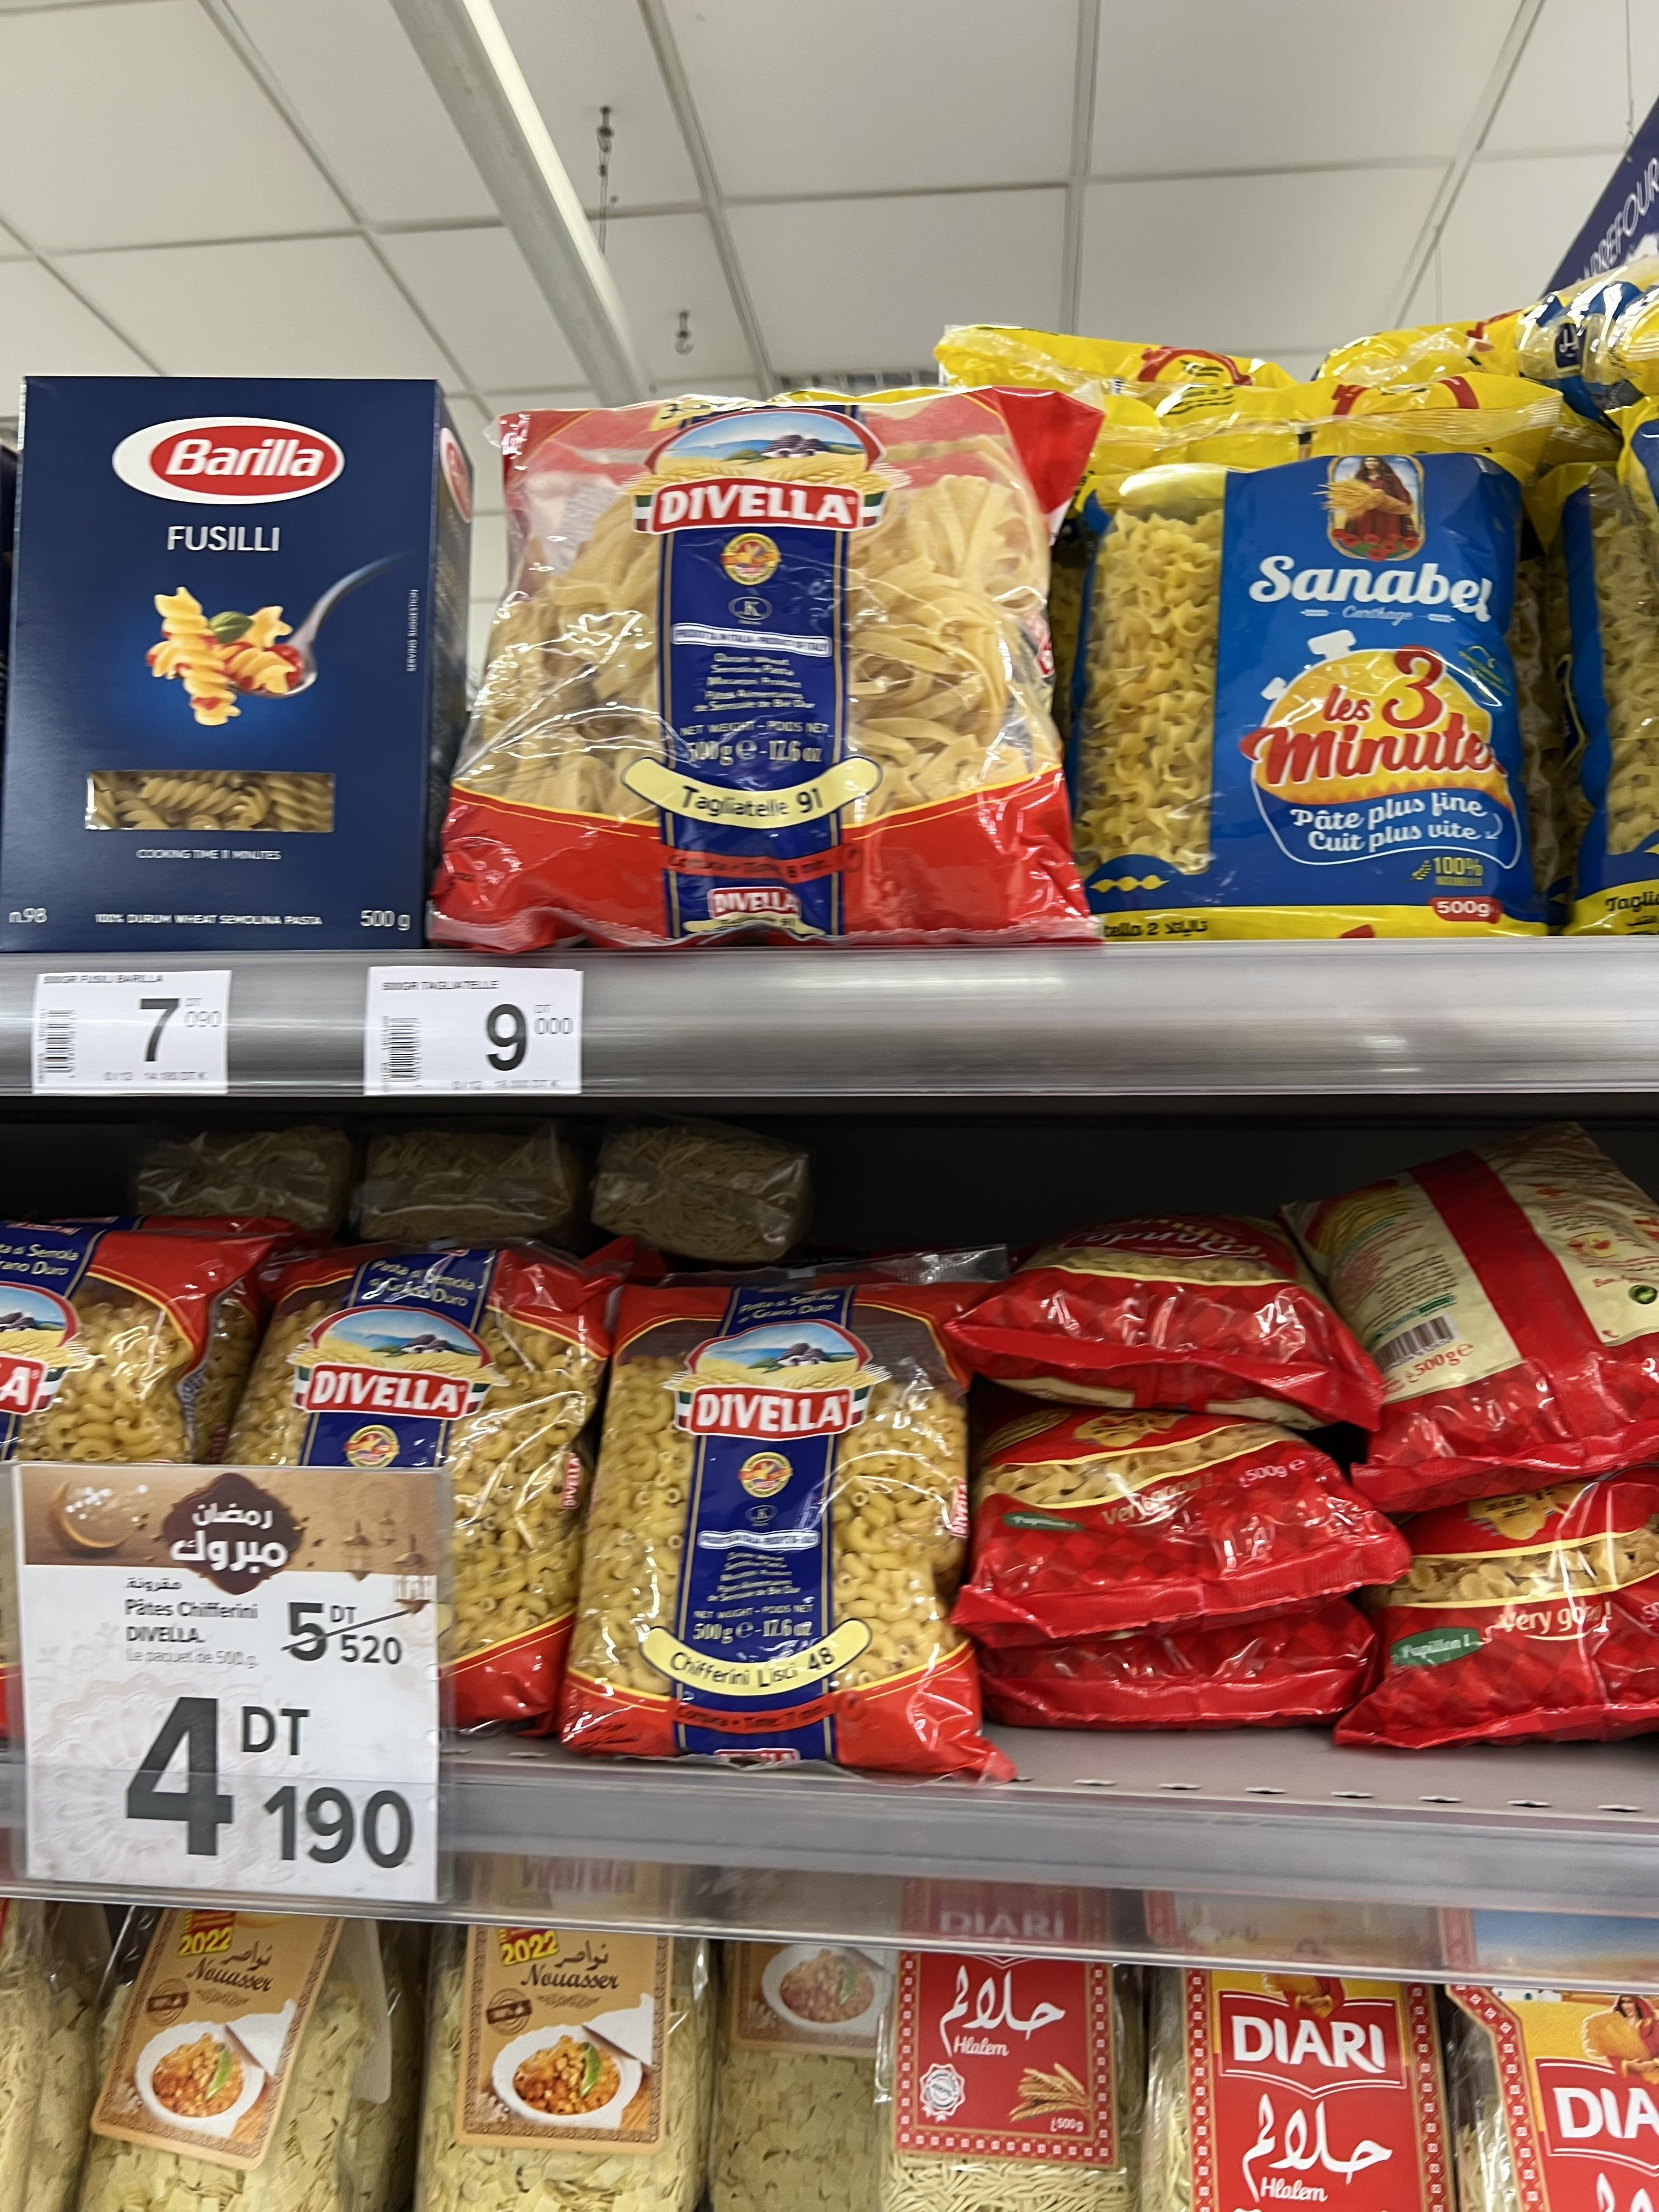Ressort: (0, 503, 331, 1259), (821, 538, 1161, 1244)
Tagliatelle: (329, 538, 812, 1249)
